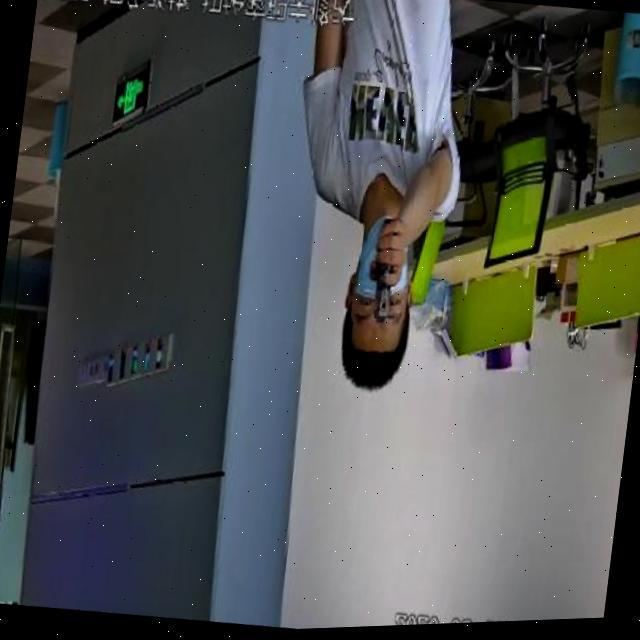gun: (363, 264, 401, 338)
